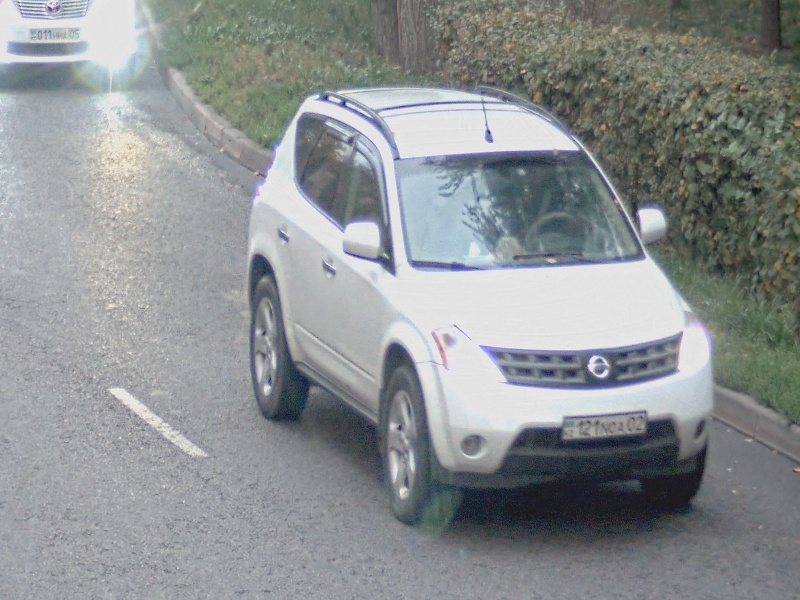plate: (560, 409, 648, 446), (26, 26, 80, 45)
